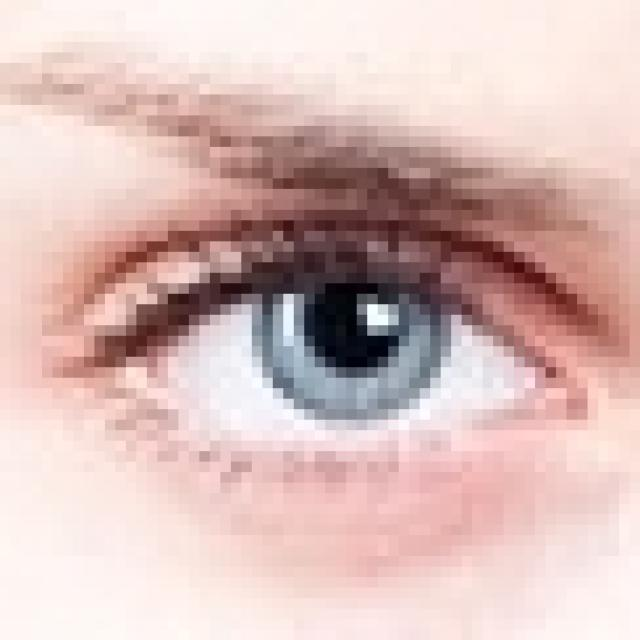eye: (0, 221, 640, 511)
gaze: (244, 255, 465, 423)
